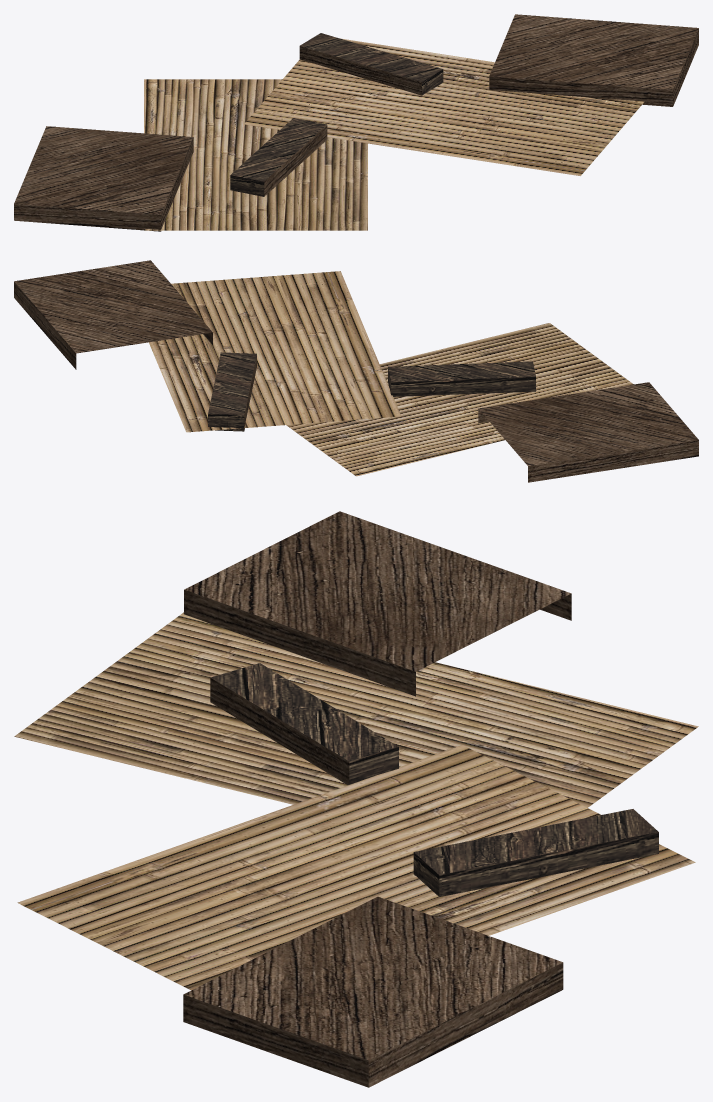
Rendered from build3_d2.FBX.
The picture shows the model from 3 angles, top to bottom: view 1: azimuth 30°, elevation 25°; view 2: azimuth 150°, elevation 25°; view 3: azimuth 270°, elevation 25°; orthographic projection. The views are drawn at different scales.
Visible parts, largest first — view 1: build3_d2; view 2: build3_d2; view 3: build3_d2.
Part boxes in pixels (box(x1,y1,x2,y2)): build3_d2: box(14, 14, 698, 231); build3_d2: box(14, 260, 698, 482); build3_d2: box(14, 511, 698, 1087).
Bounding box in the file's own units: 215 × 5 × 113.
